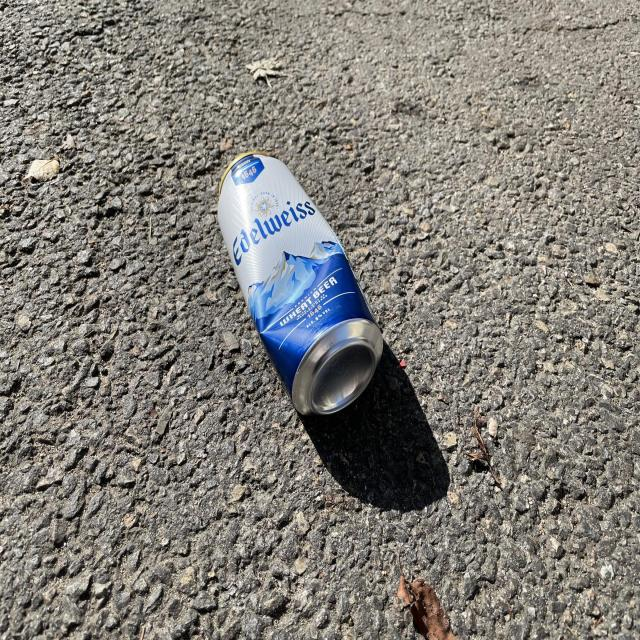can: (217, 151, 383, 415)
